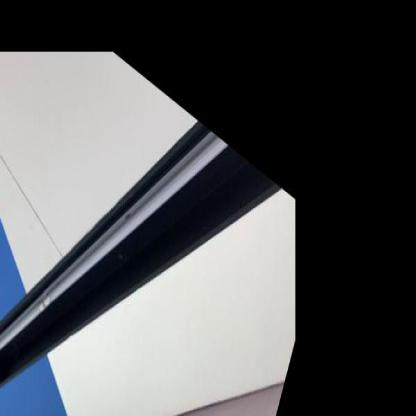light_off: (0, 16, 241, 415)
